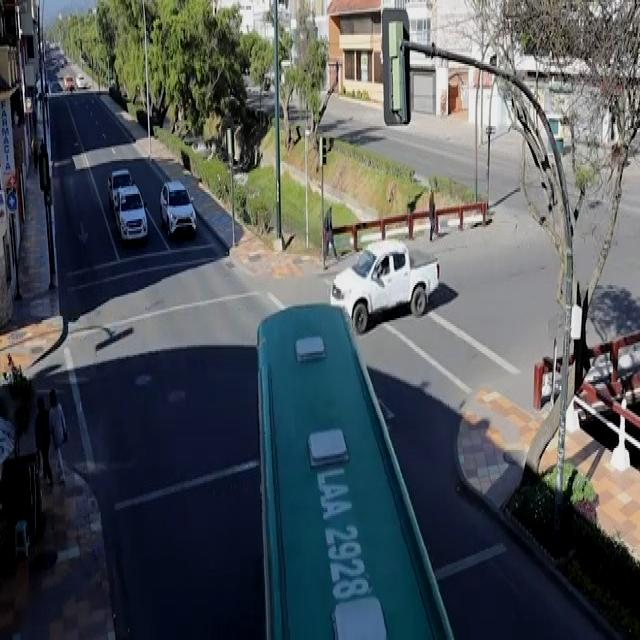CMT: (333, 242, 441, 322)
SUV: (158, 179, 200, 240)
